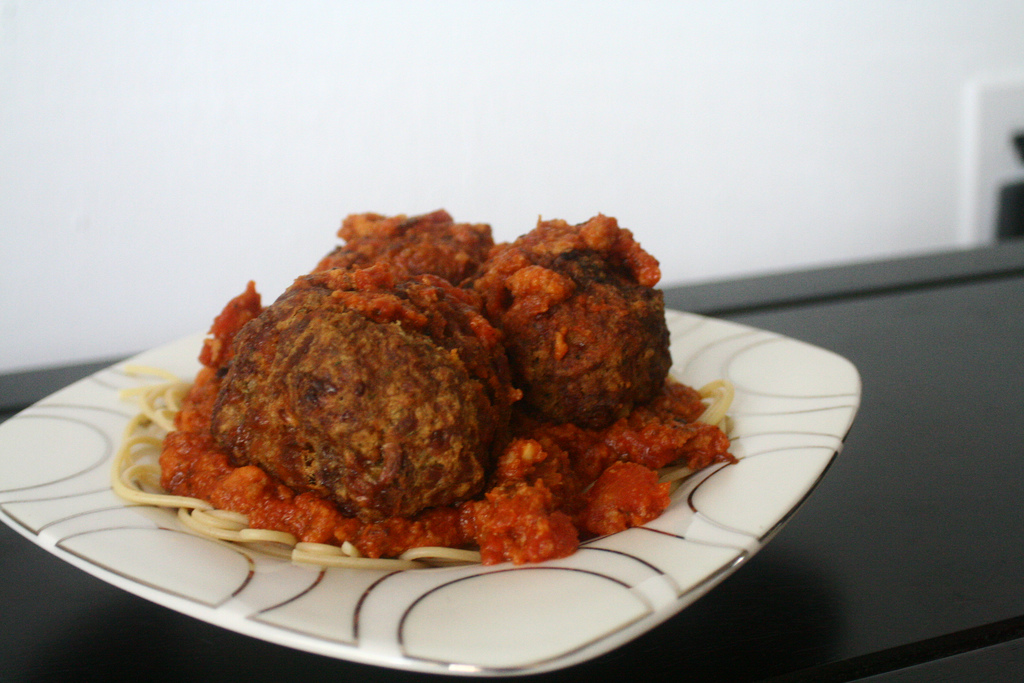meatballs: (237, 287, 499, 482), (491, 225, 668, 428)
